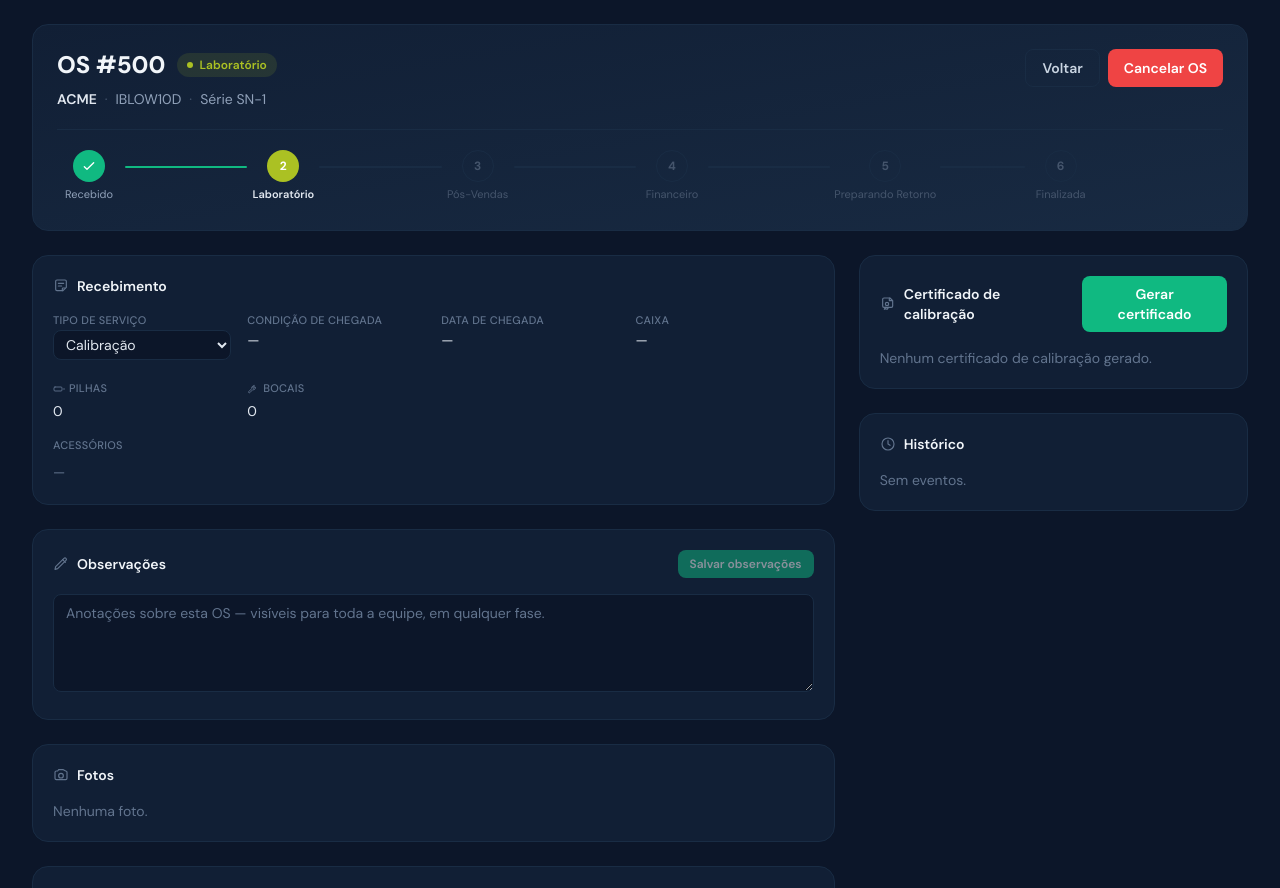
Test: OrdemDetailPage — tipo de serviço › erro do servidor aparece na tela e o valor não muda
The width and height of the screenshot is (1280, 888).
Select "Ambas" in the dropdown named "Tipo de serviço" at [142, 345], box x1=53 y1=330 x2=231 y2=360
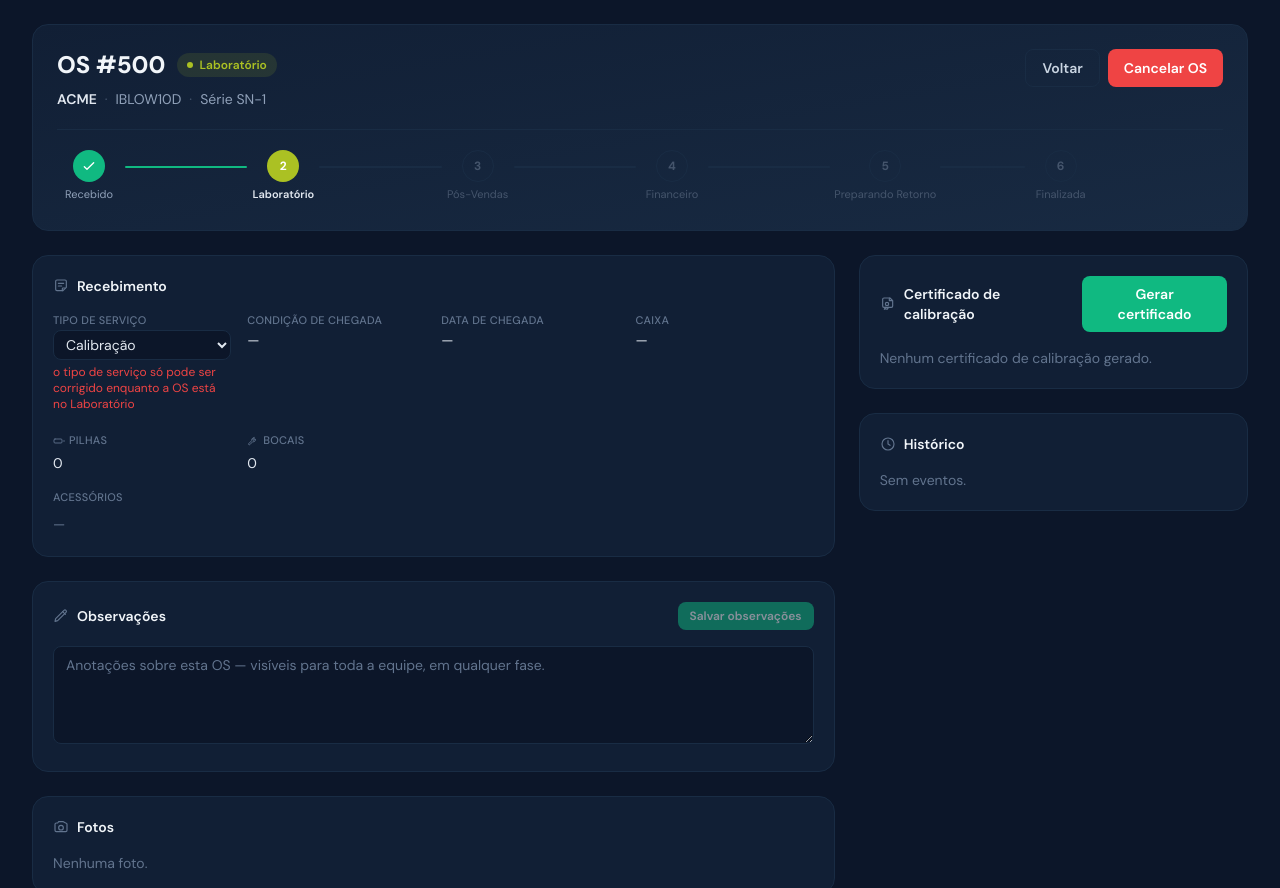
Expected: the text "só pode ser corrigido" is shown, x1=53 y1=364 x2=216 y2=412
